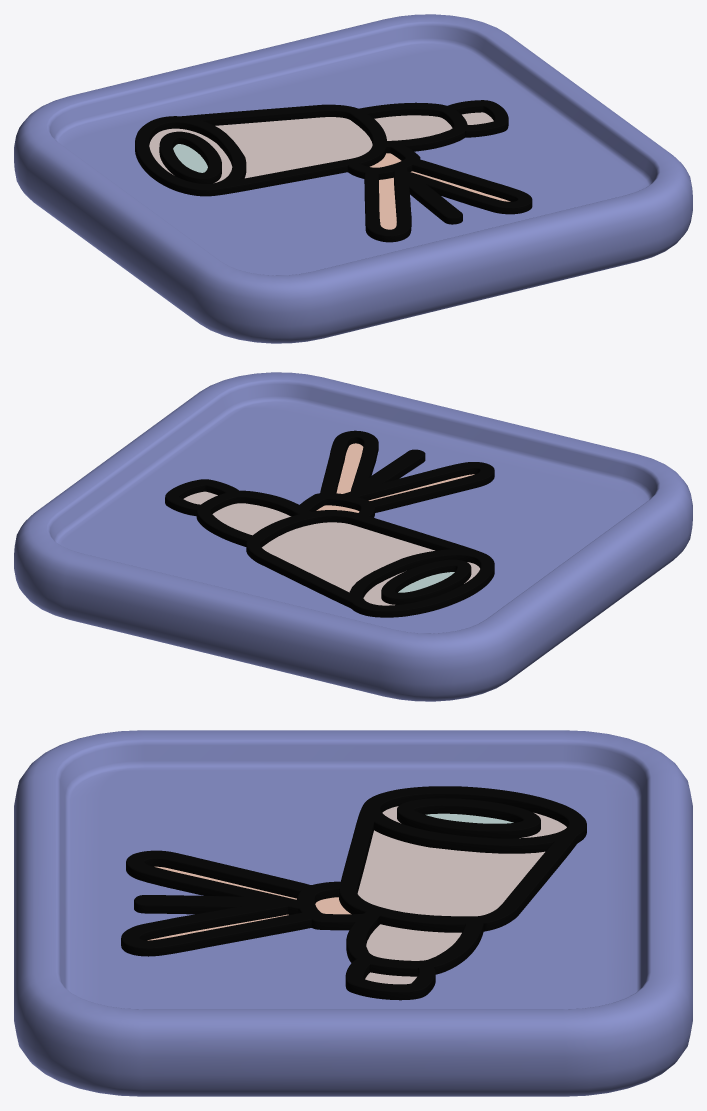
The model's file is telescope_tile.fbx.
The picture shows the model from 3 angles, top to bottom: view 1: azimuth 30°, elevation 25°; view 2: azimuth 150°, elevation 25°; view 3: azimuth 270°, elevation 25°; orthographic projection. The views are drawn at different scales.
Parts seen in each view (by area): view 1: telescope_cube, telescope_lines; view 2: telescope_cube, telescope_lines; view 3: telescope_cube, telescope_lines.
Part boxes in pixels (left/top/right/bottom): telescope_cube: left=14, top=14, right=692, bottom=343; telescope_lines: left=135, top=100, right=532, bottom=242; telescope_cube: left=14, top=372, right=692, bottom=701; telescope_lines: left=165, top=430, right=494, bottom=617; telescope_cube: left=14, top=730, right=692, bottom=1096; telescope_lines: left=121, top=786, right=586, bottom=1000.
Size of the model in its own units: 1201 by 143 by 1128.
